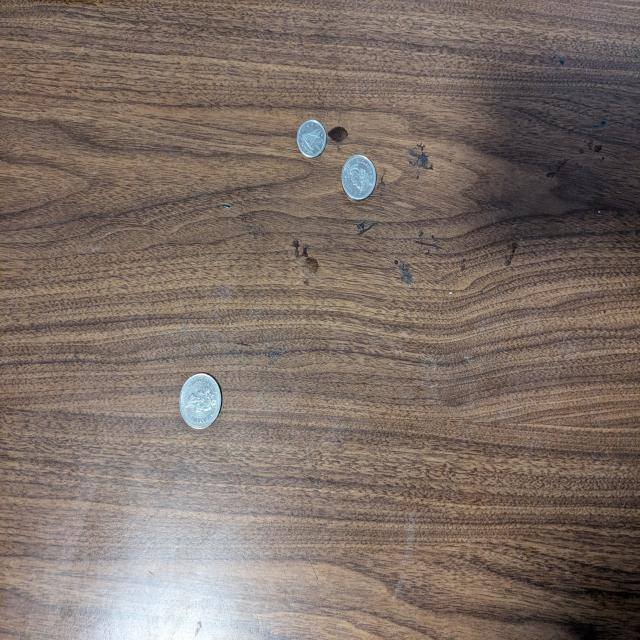dime: (295, 120, 328, 159)
nickel: (342, 155, 376, 202)
quarter: (179, 374, 223, 429)
